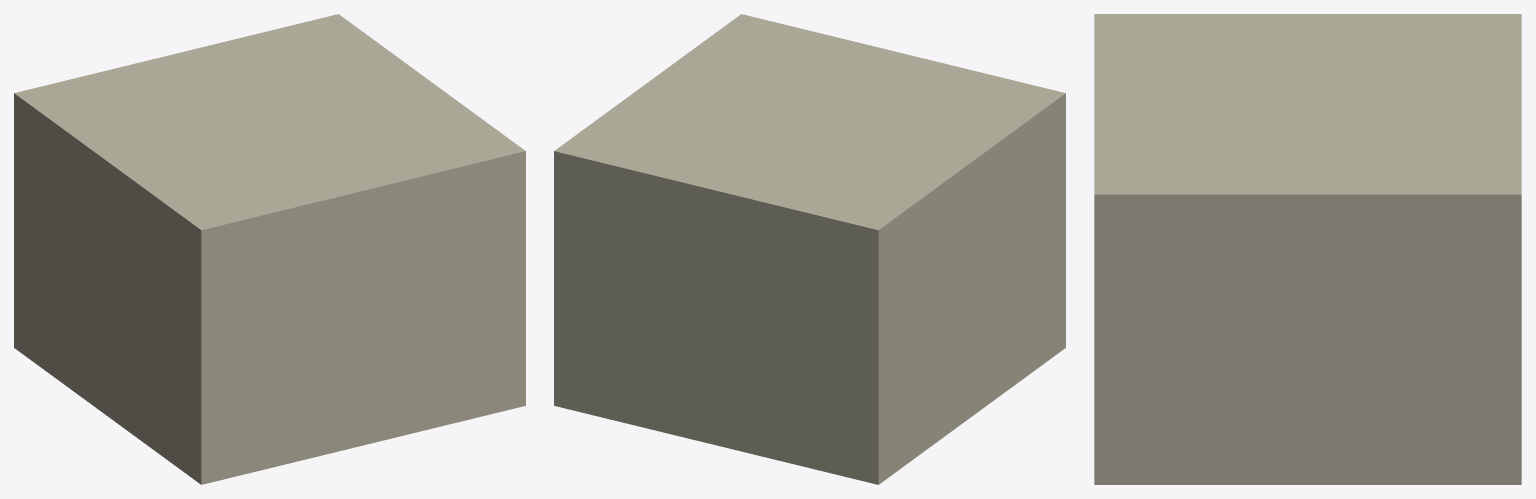
The model's file is Background.fbx.
The picture shows the model from 3 angles, left to right: view 1: azimuth 30°, elevation 25°; view 2: azimuth 150°, elevation 25°; view 3: azimuth 270°, elevation 25°; orthographic projection. The views are drawn at different scales.
Visible parts, largest first — view 1: Wall; view 2: Wall; view 3: Wall.
Boxes of the visible parts, <box> form: Wall: <box>14,14,525,484</box>; Wall: <box>554,14,1065,484</box>; Wall: <box>1094,14,1521,484</box>.
Size of the model in its own units: 400 by 300 by 400.
